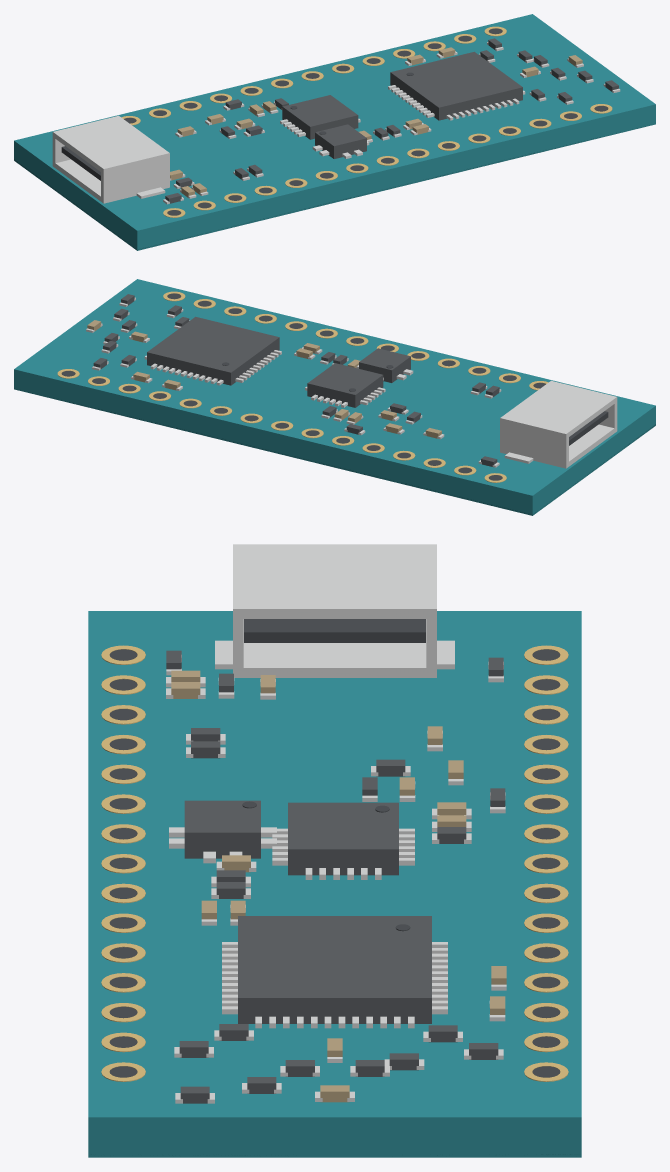
Rendered from arduino-nano-every.glb.
The picture shows the model from 3 angles, top to bottom: view 1: azimuth 30°, elevation 25°; view 2: azimuth 150°, elevation 25°; view 3: azimuth 270°, elevation 25°; orthographic projection. The views are drawn at different scales.
Visible parts, largest first — view 1: PCB, J1, U1, SMT, JP2, JP3, U3, U2; view 2: PCB, J1, U1, SMT, JP3, U3, JP2, U2; view 3: PCB, J1, U1, SMT, JP2, JP3, U3, U2.
Boxes of the visible parts, bbox=[...] form: PCB: bbox=[14, 14, 655, 250]; J1: bbox=[52, 115, 169, 203]; U1: bbox=[388, 51, 525, 120]; SMT: bbox=[163, 38, 620, 204]; JP2: bbox=[163, 104, 612, 217]; JP3: bbox=[121, 26, 506, 125]; U3: bbox=[280, 95, 360, 139]; U2: bbox=[312, 124, 369, 158]; PCB: bbox=[14, 279, 655, 515]; J1: bbox=[500, 380, 617, 468]; U1: bbox=[144, 316, 281, 385]; SMT: bbox=[86, 294, 501, 467]; JP3: bbox=[57, 369, 506, 482]; U3: bbox=[305, 363, 385, 407]; JP2: bbox=[163, 291, 548, 390]; U2: bbox=[356, 348, 413, 382]; PCB: bbox=[88, 611, 581, 1157]; J1: bbox=[215, 544, 454, 677]; U1: bbox=[222, 916, 447, 1028]; SMT: bbox=[166, 650, 506, 1103]; JP2: bbox=[101, 645, 145, 1081]; JP3: bbox=[524, 645, 568, 1081]; U3: bbox=[272, 802, 414, 879]; U2: bbox=[169, 800, 276, 863].
Bounding box in the file's own units: 0.0432 × 0.00435 × 0.0178.
